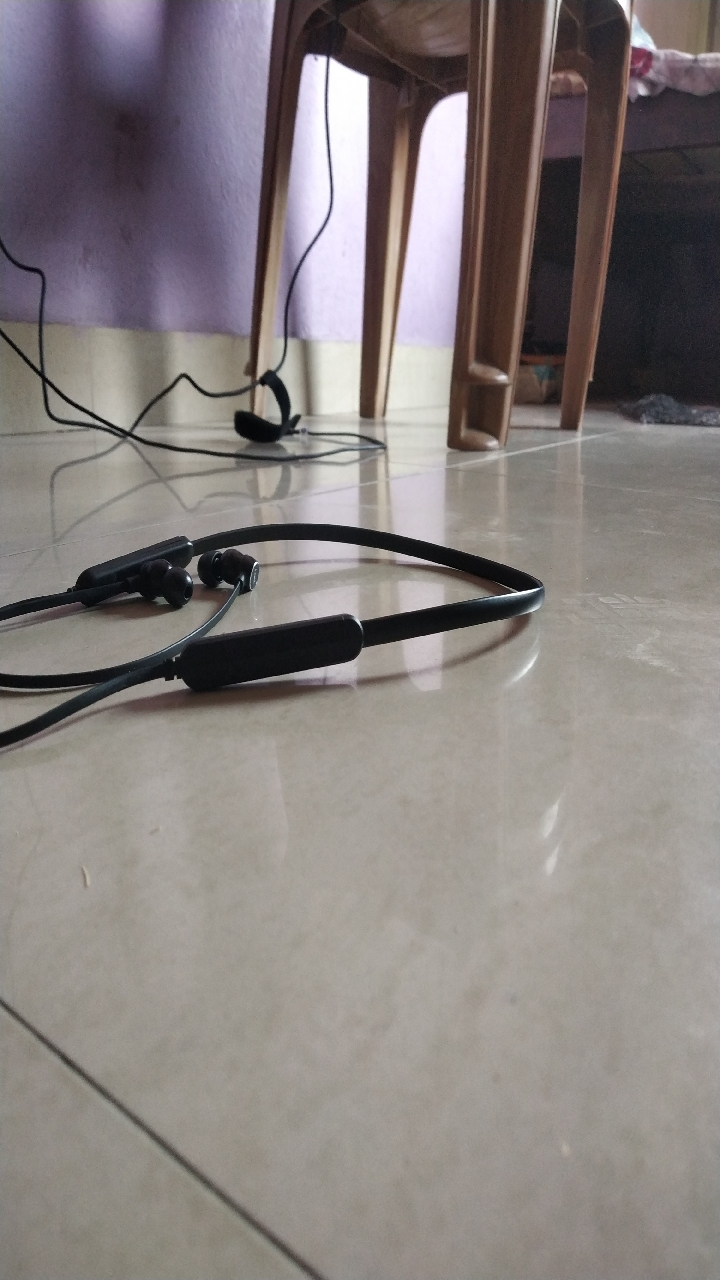Furnitures: (218, 142, 616, 472)
cables: (8, 502, 563, 767), (6, 203, 394, 487)
